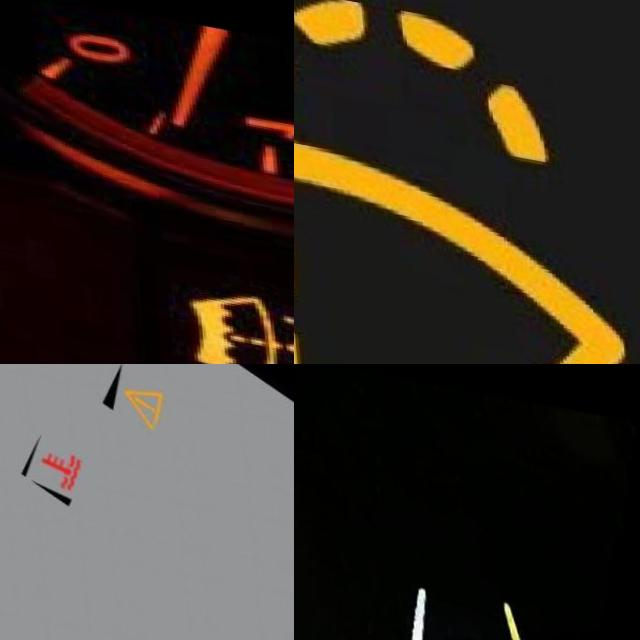Washer Fluid: (294, 0, 619, 364), (183, 274, 294, 364)
